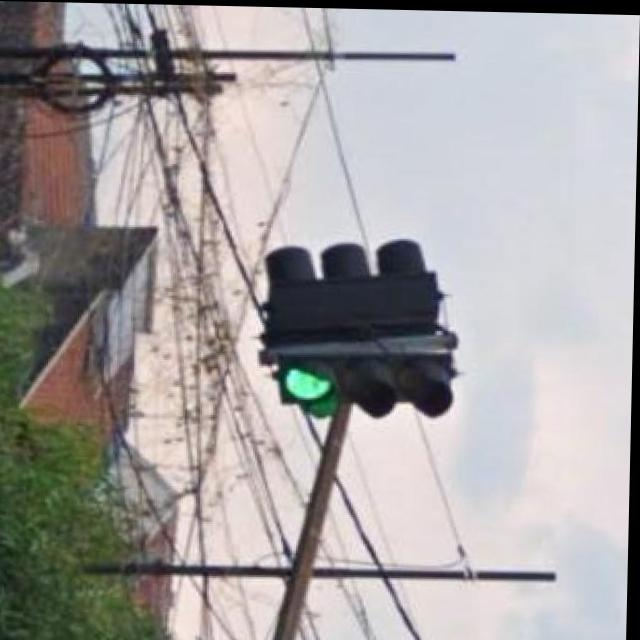green light: (280, 348, 455, 417)
